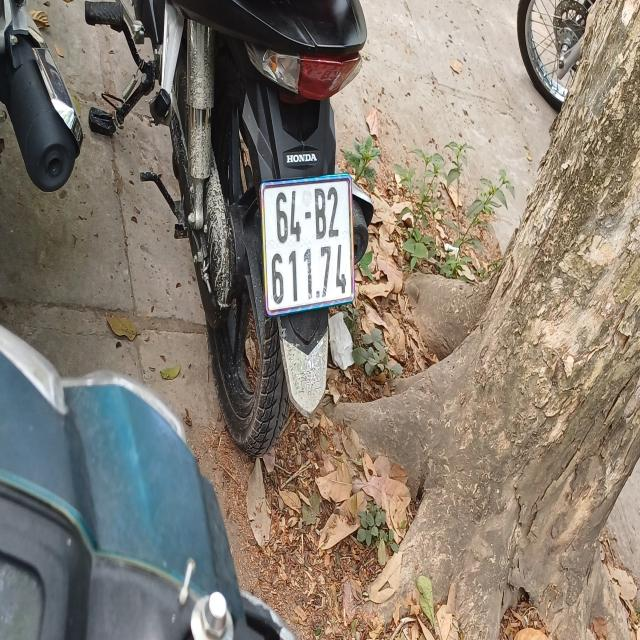1: (287, 248, 300, 304), (304, 245, 313, 304)
2: (327, 187, 340, 239)
4: (334, 244, 348, 294), (289, 192, 303, 241)
6: (275, 192, 289, 246), (271, 250, 284, 304)
7: (319, 241, 331, 297)
B: (314, 186, 327, 244)
